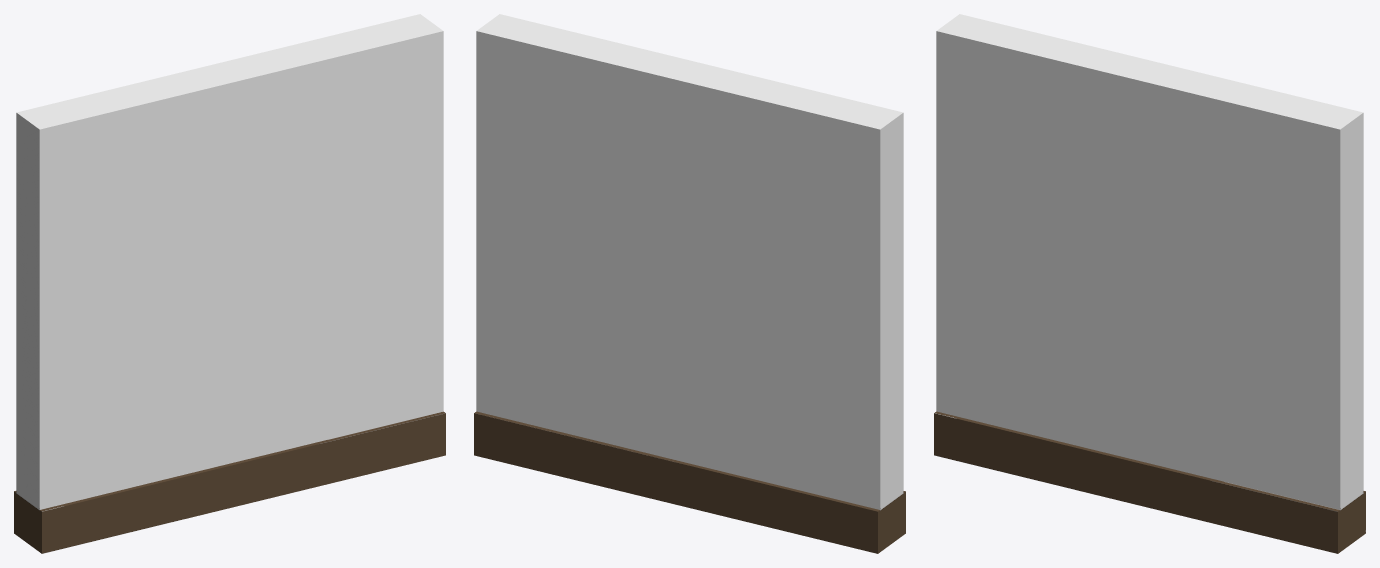
The model's file is Wall_BasicWBaseboard.fbx.
3 renders of one model, left to right at view 1: azimuth 30°, elevation 25°; view 2: azimuth 150°, elevation 25°; view 3: azimuth 330°, elevation 25°, orthographic.
Parts seen in each view (by area): view 1: Cube; view 2: Cube; view 3: Cube.
Part boxes in pixels (x1,y1,x2,y2): Cube: (14,14,445,553); Cube: (474,14,905,553); Cube: (934,14,1365,553).
Size of the model in its own units: 1000 by 1000 by 120.
1 material, 1 textured.
